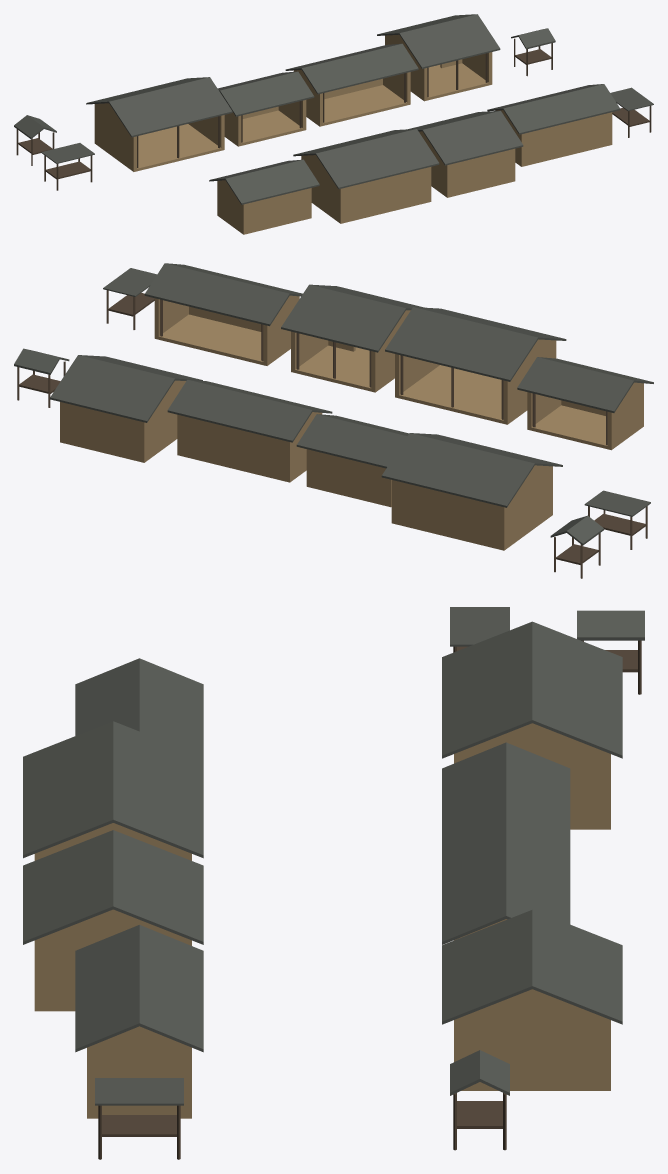
The model's file is street_frontage-LOD2.glb.
3 renders of one model, top to bottom at view 1: azimuth 30°, elevation 25°; view 2: azimuth 150°, elevation 25°; view 3: azimuth 270°, elevation 25°, orthographic. The views are drawn at different scales.
Parts seen in each view (by area): view 1: layout__LY_P01_tile__FLAT, layout__LY_P01_earth__FLAT, layout__LY_P01_timber__FLAT; view 2: layout__LY_P01_tile__FLAT, layout__LY_P01_earth__FLAT, layout__LY_P01_timber__FLAT; view 3: layout__LY_P01_tile__FLAT, layout__LY_P01_earth__FLAT, layout__LY_P01_timber__FLAT.
Part boxes in pixels (x1=…): layout__LY_P01_tile__FLAT: x1=14, y1=14, x2=653, y2=204; layout__LY_P01_earth__FLAT: x1=94, y1=34, x2=612, y2=234; layout__LY_P01_timber__FLAT: x1=16, y1=38, x2=651, y2=190; layout__LY_P01_tile__FLAT: x1=14, y1=263, x2=653, y2=545; layout__LY_P01_earth__FLAT: x1=60, y1=295, x2=643, y2=550; layout__LY_P01_timber__FLAT: x1=17, y1=290, x2=647, y2=578; layout__LY_P01_tile__FLAT: x1=23, y1=607, x2=644, y2=1105; layout__LY_P01_earth__FLAT: x1=34, y1=723, x2=610, y2=1118; layout__LY_P01_timber__FLAT: x1=98, y1=640, x2=641, y2=1159.
Bounding box in the file's own units: 44.85 × 4.83 × 23.75.
